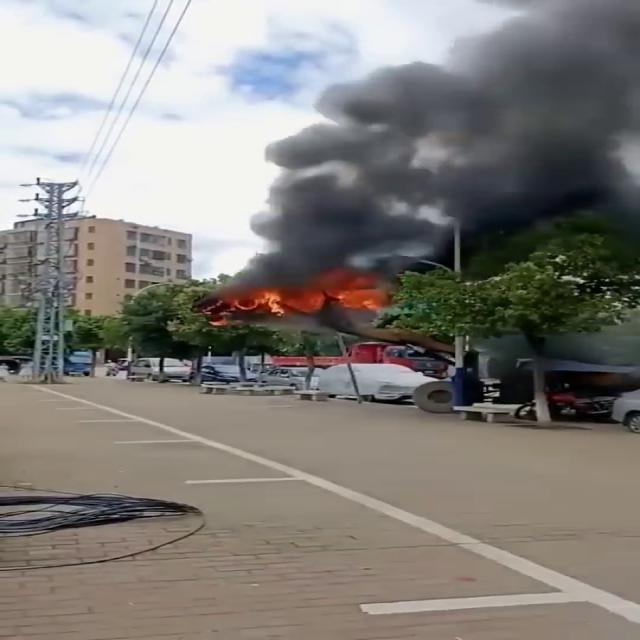Fire: (210, 276, 386, 316)
Smoke: (247, 0, 638, 282)
